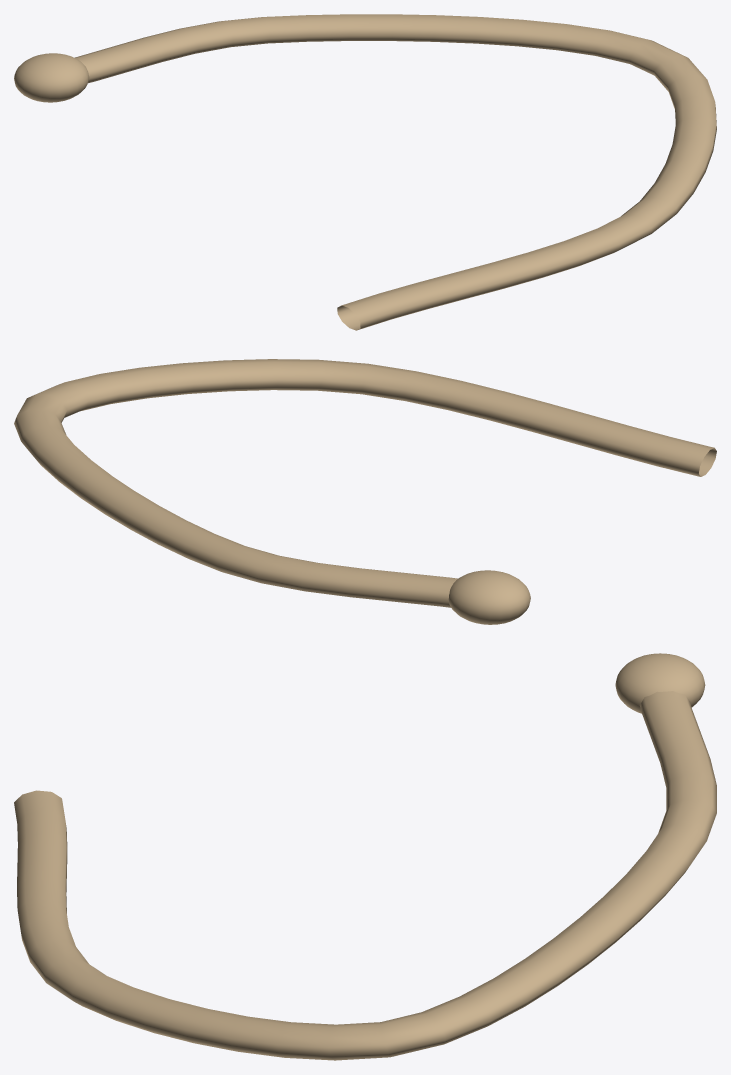
The model's file is left_rib_6.glb.
3 renders of one model, top to bottom at view 1: azimuth 30°, elevation 25°; view 2: azimuth 150°, elevation 25°; view 3: azimuth 270°, elevation 25°, orthographic. The views are drawn at different scales.
Visible parts, largest first — view 1: left_rib_6:costal-body, left_rib_6:head; view 2: left_rib_6:costal-body, left_rib_6:head; view 3: left_rib_6:costal-body, left_rib_6:head.
Part boxes in pixels (x1,y1,x2,y2): left_rib_6:costal-body: (74,14,716,330); left_rib_6:head: (14,53,89,102); left_rib_6:costal-body: (14,359,716,607); left_rib_6:head: (448,570,530,624); left_rib_6:costal-body: (14,691,716,1060); left_rib_6:head: (615,653,705,713).
Bounding box in the file's own units: 1 × 0.1728 × 0.864.
